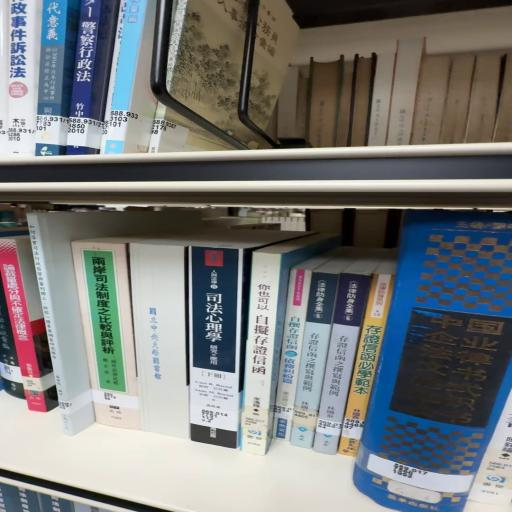backward: (130, 237, 190, 439)
book: (236, 233, 340, 460), (24, 215, 90, 420), (332, 262, 390, 460), (312, 268, 372, 454), (190, 246, 243, 453), (0, 220, 54, 407)
